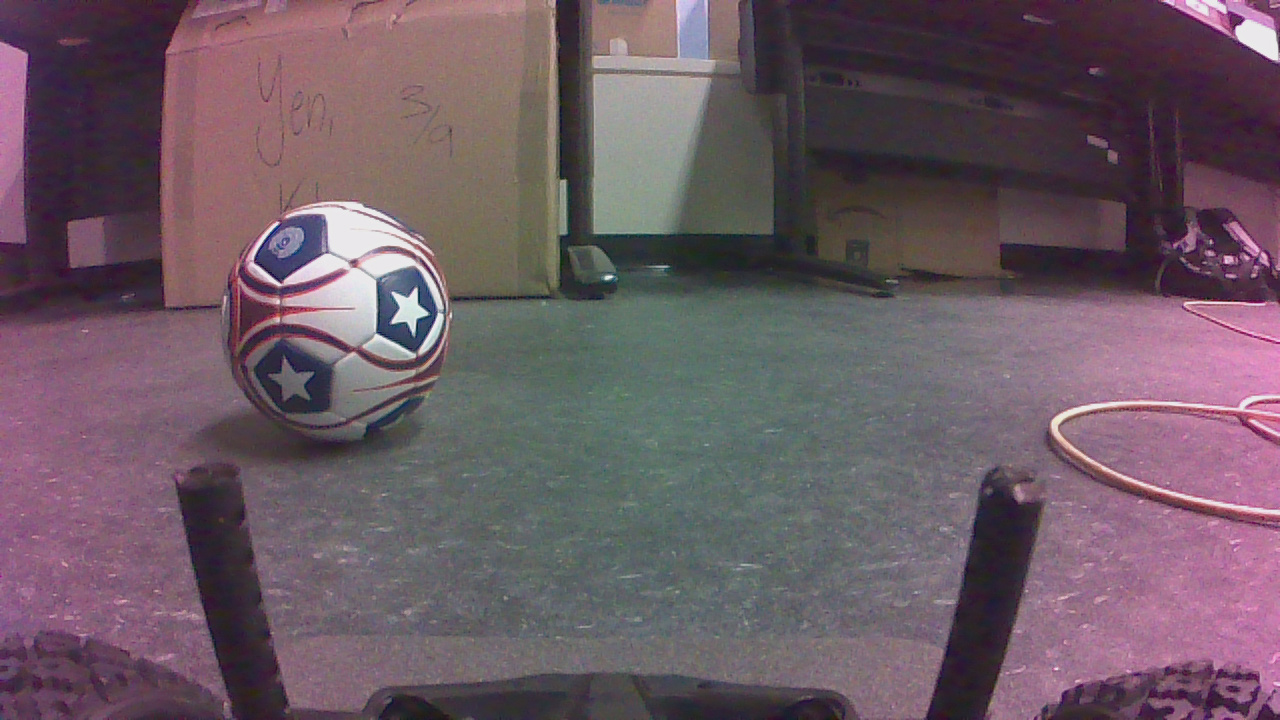ball: (222, 203, 460, 444)
